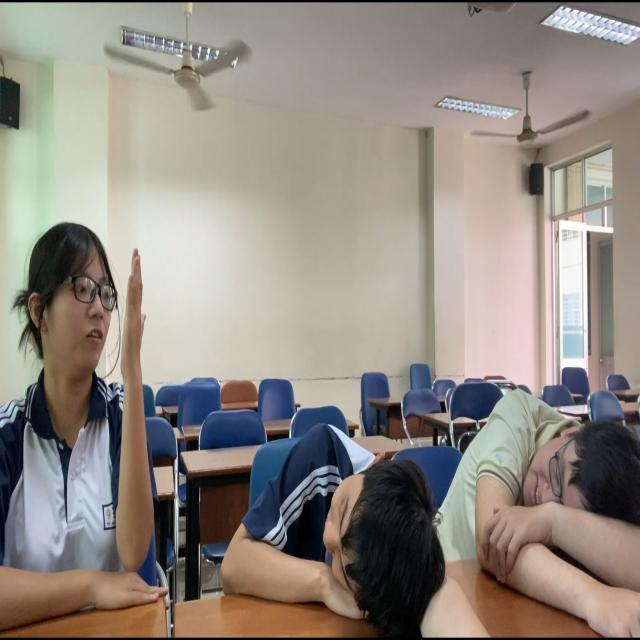raise_hand: (1, 215, 157, 640)
sleep: (418, 371, 640, 640), (214, 386, 440, 640)
